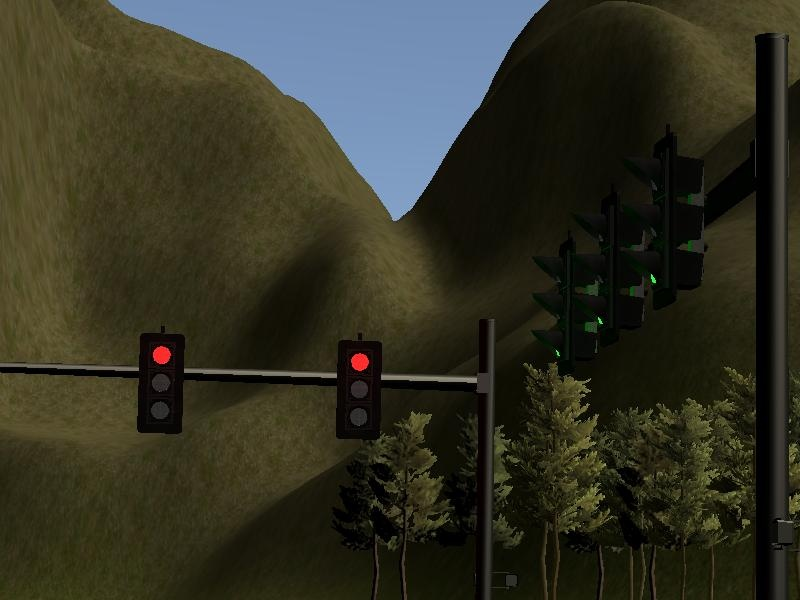RED: (138, 335, 185, 434), (335, 338, 382, 437)
